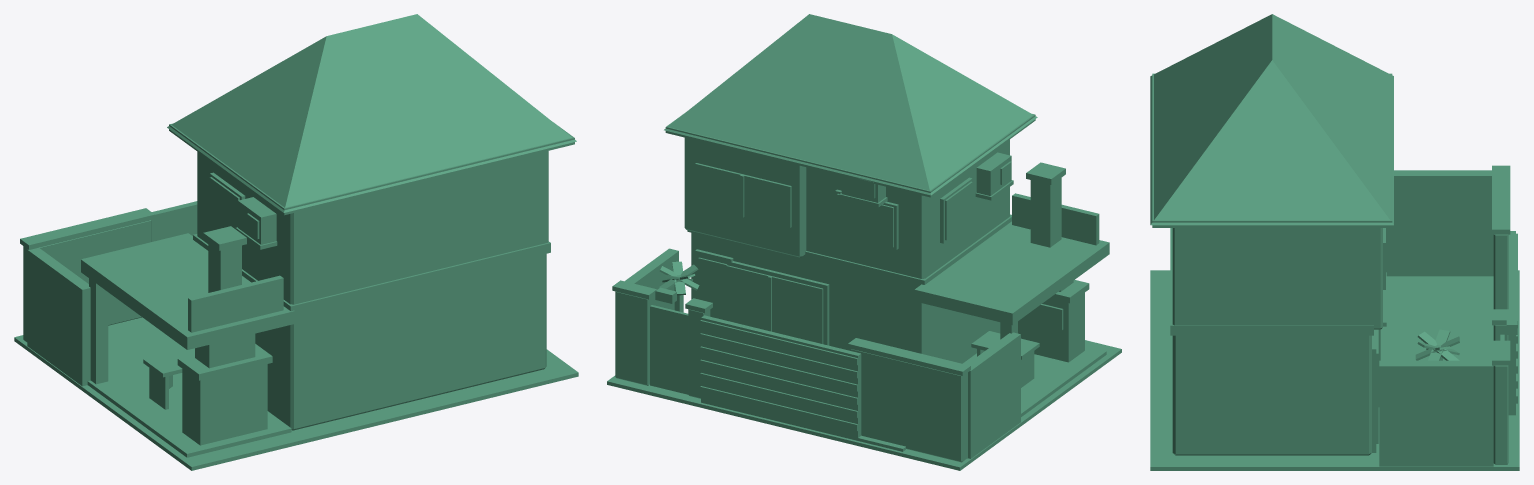
3 renders of one model, left to right at view 1: azimuth 30°, elevation 25°; view 2: azimuth 150°, elevation 25°; view 3: azimuth 270°, elevation 25°, orthographic. The views are drawn at different scales.
Parts seen in each view (by area): view 1: corpo; view 2: corpo; view 3: corpo.
Boxes of the visible parts, x1,y1,x2,y2 form: corpo: (14, 14, 578, 470); corpo: (607, 14, 1121, 470); corpo: (1150, 14, 1519, 470).
Bounding box in the file's own units: 1.26 × 1.07 × 1.
